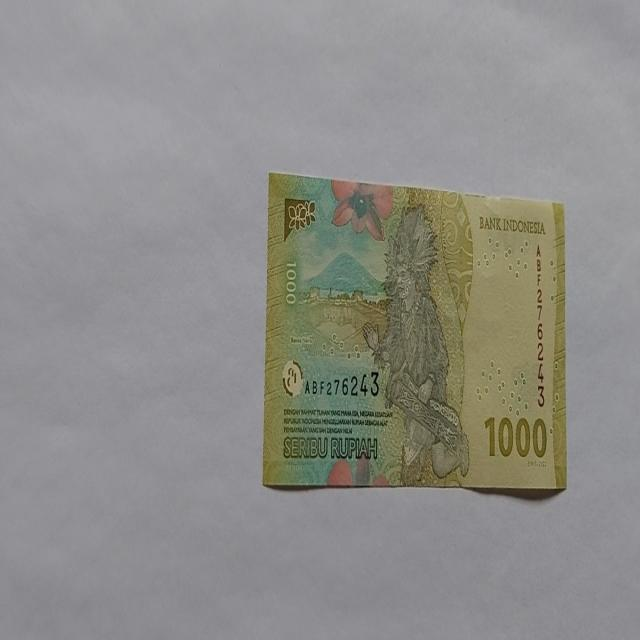seribu rupiah kertas: (262, 170, 566, 492)
